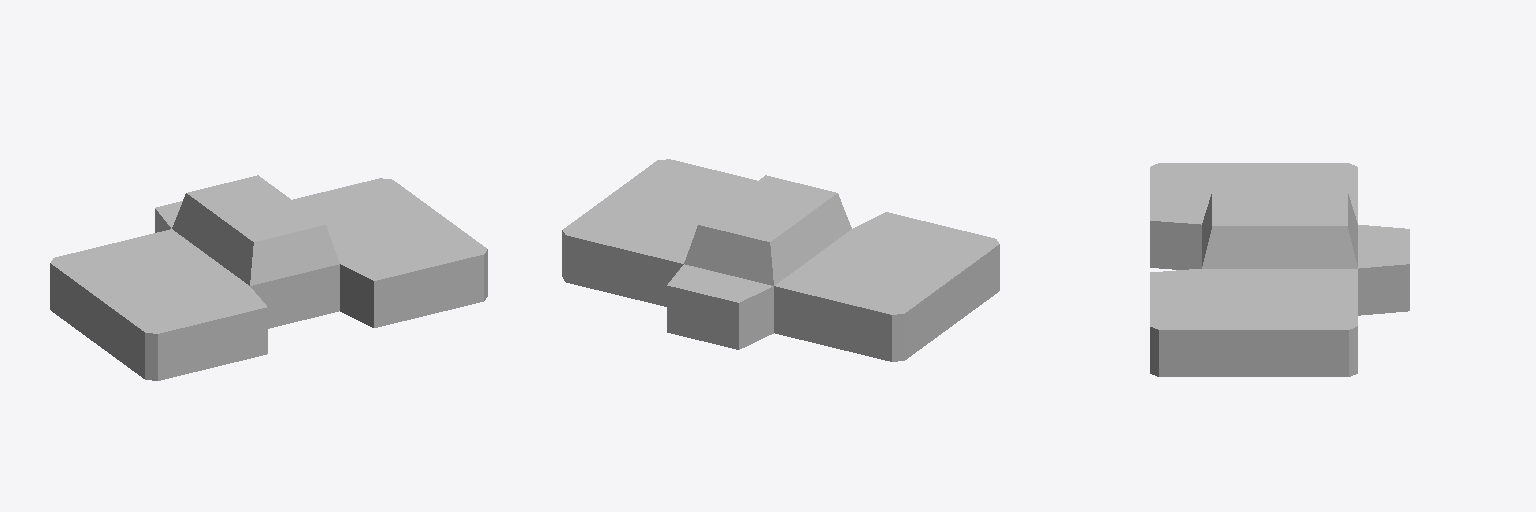
File: tread.obj
3 views of the same model, side by side, from view 1: azimuth 30°, elevation 25°; view 2: azimuth 150°, elevation 25°; view 3: azimuth 270°, elevation 25° (orthographic).
Parts seen in each view (by area): view 1: Tread; view 2: Tread; view 3: Tread.
Boxes of the visible parts, <box> form: Tread: <box>50,175,487,380</box>; Tread: <box>562,159,999,361</box>; Tread: <box>1150,163,1409,376</box>.
Size of the model in its own units: 0.38 by 0.1 by 0.25.